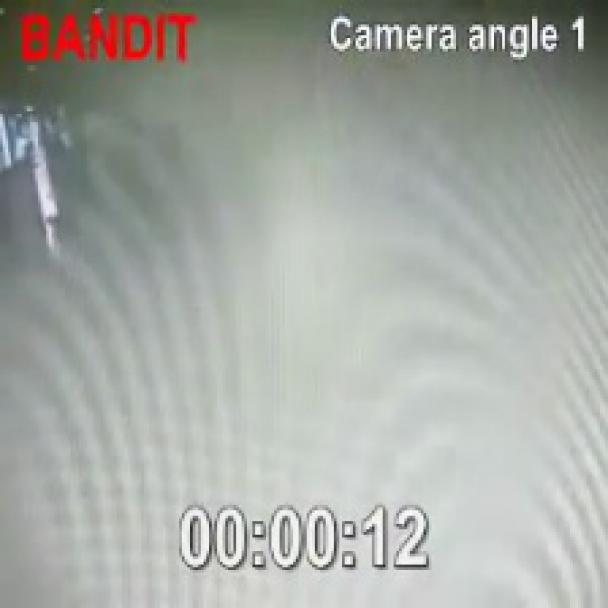smoke: (23, 74, 591, 504)
